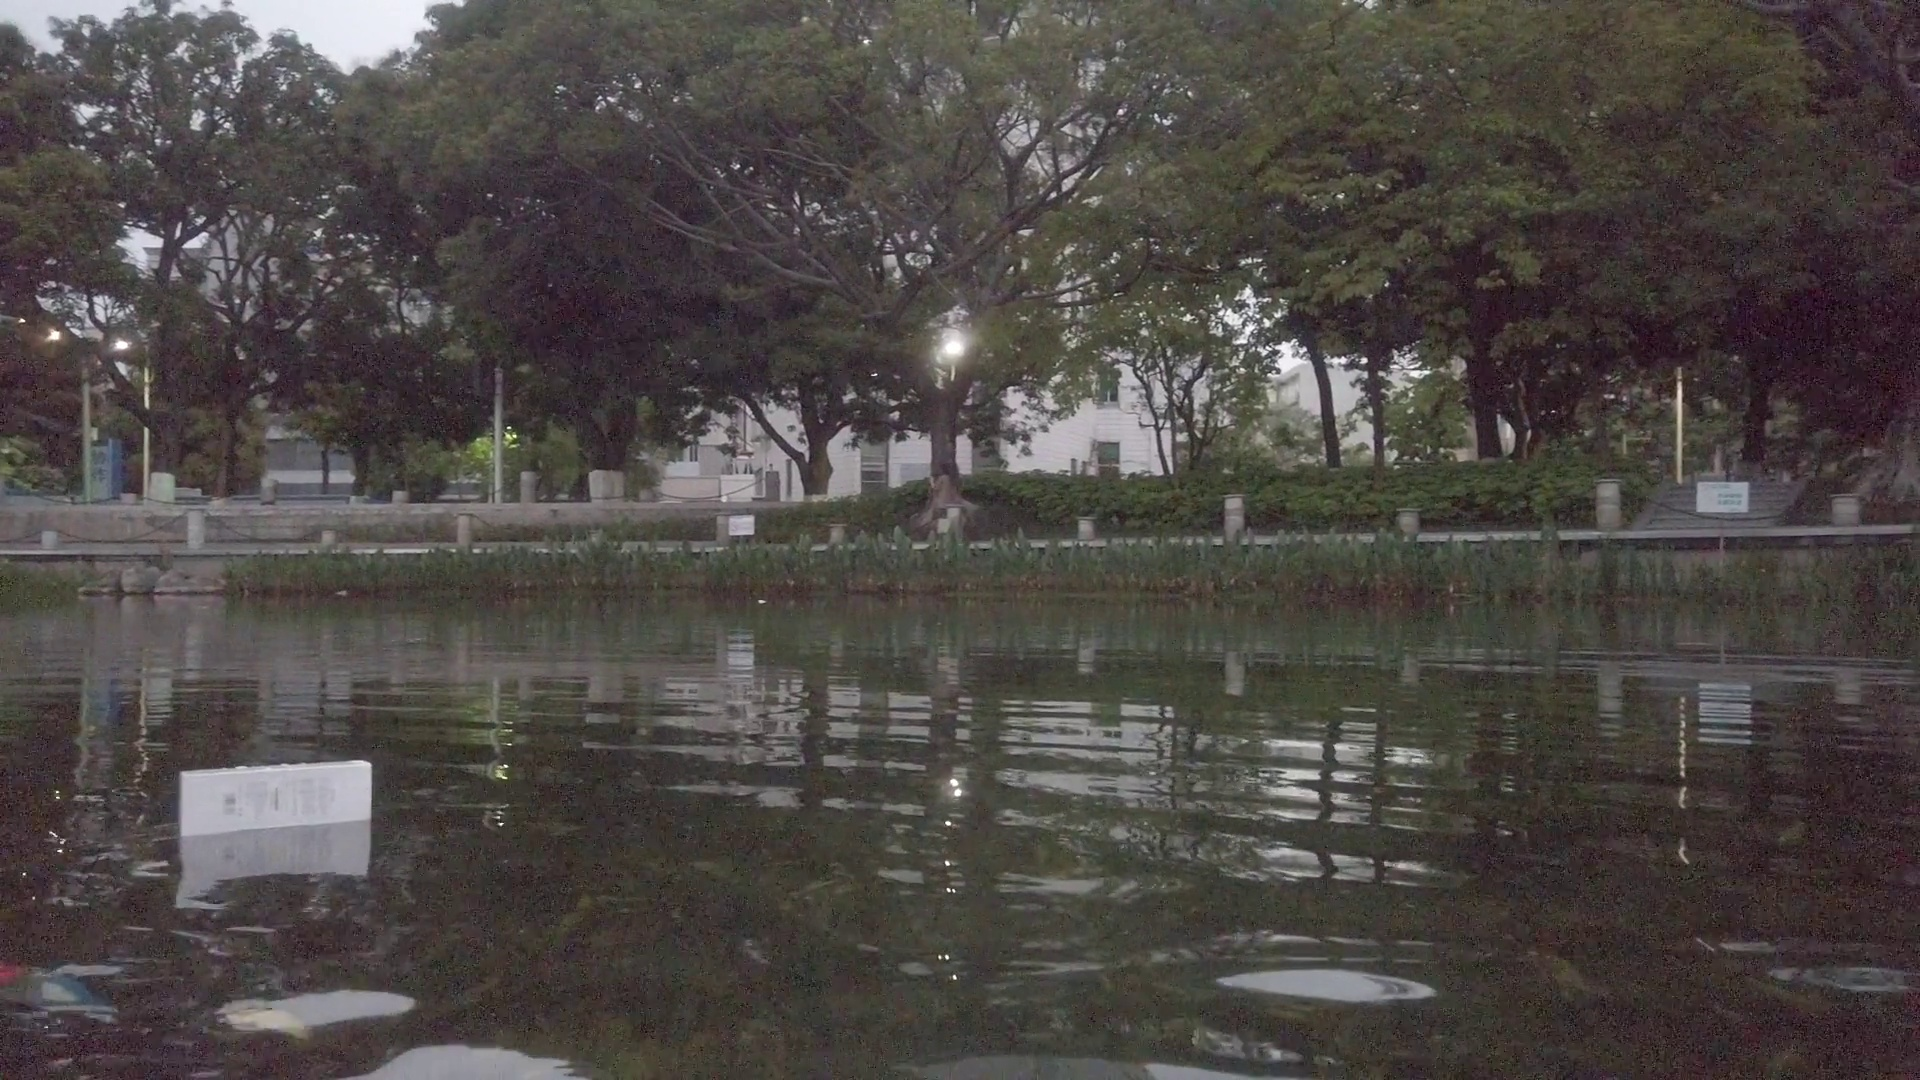carton: (179, 761, 373, 837)
paper: (225, 976, 422, 1044)
